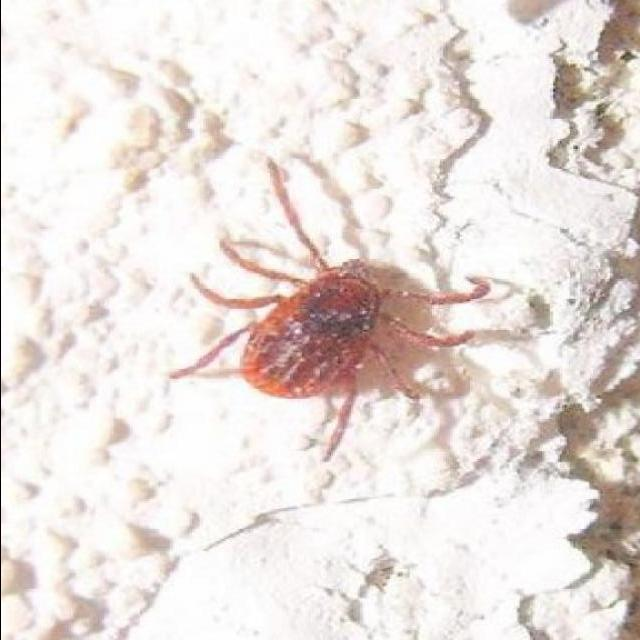Rhipicephalus Sanguineus-F: (166, 157, 489, 462)
